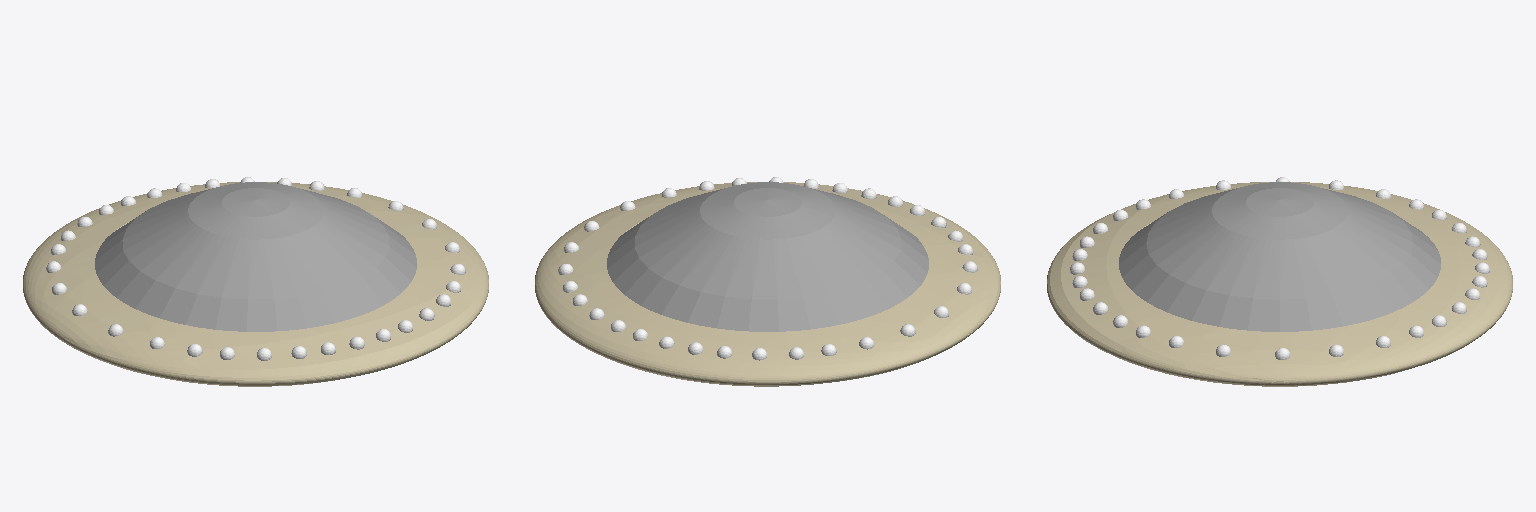
The model's file is 5492_UFO.obj.
The picture shows the model from 3 angles: view 1: azimuth 30°, elevation 25°; view 2: azimuth 150°, elevation 25°; view 3: azimuth 270°, elevation 25°; orthographic projection.
Parts seen in each view (by area): view 1: Obj_000034, Obj_000033; view 2: Obj_000034, Obj_000033; view 3: Obj_000034, Obj_000033.
Part boxes in pixels (bbox=[...]): Obj_000034: bbox=[95, 182, 416, 331]; Obj_000033: bbox=[23, 182, 488, 386]; Obj_000034: bbox=[607, 182, 928, 331]; Obj_000033: bbox=[535, 182, 1000, 386]; Obj_000034: bbox=[1119, 182, 1440, 331]; Obj_000033: bbox=[1047, 182, 1512, 386].
Bounding box in the file's own units: 30 × 8 × 30.